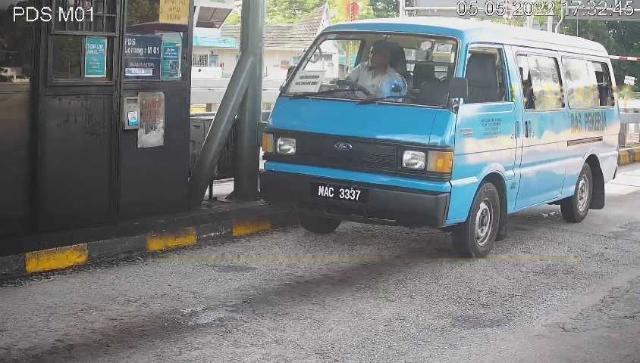License_Plate: (311, 181, 370, 208)
van: (261, 18, 620, 260)
